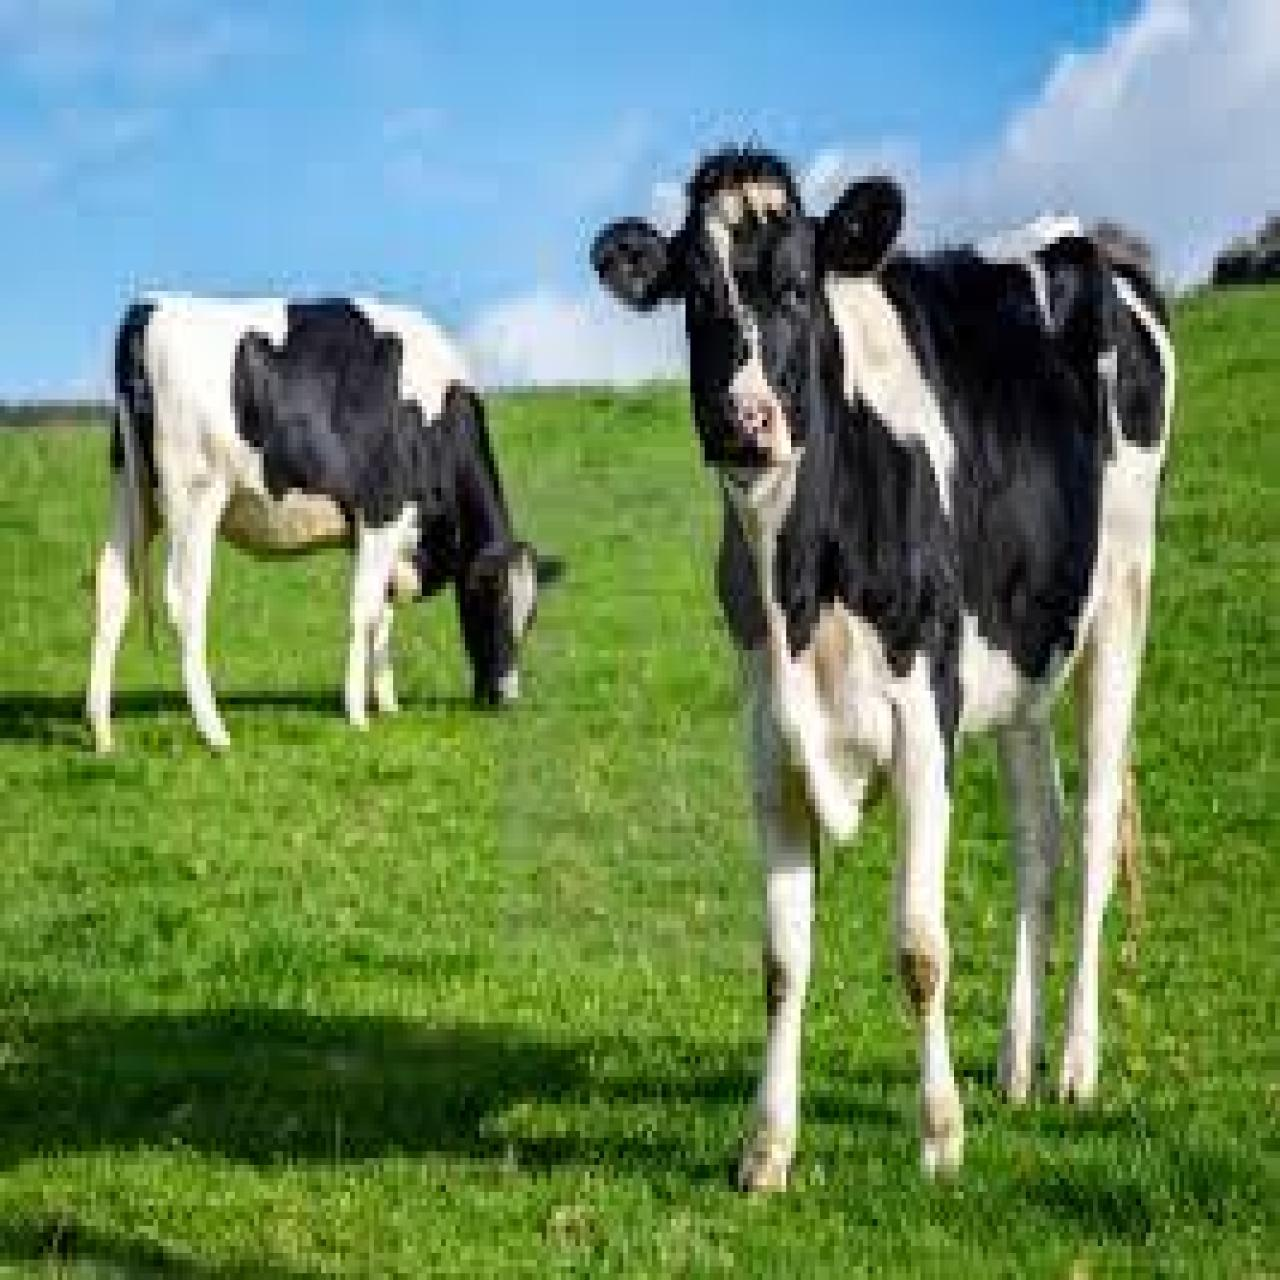cow: (590, 149, 1175, 1178), (84, 288, 568, 762)
